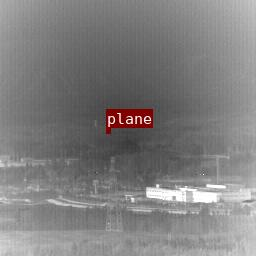plane: (106, 128, 110, 133)
